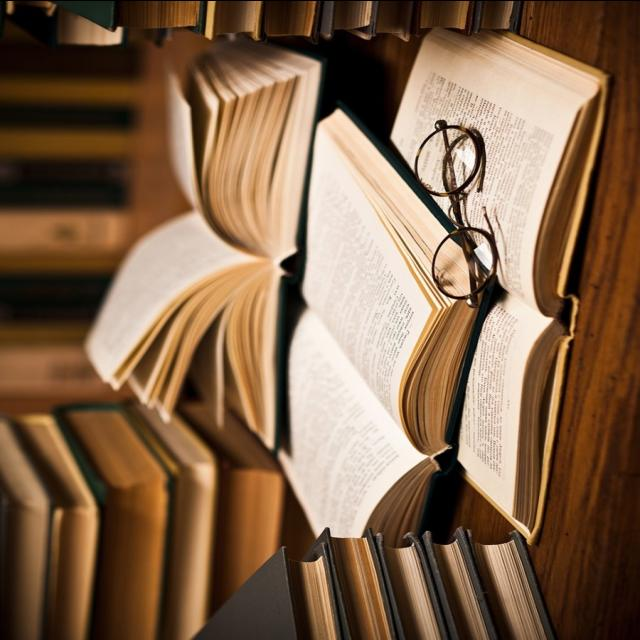book: (69, 36, 334, 458)
